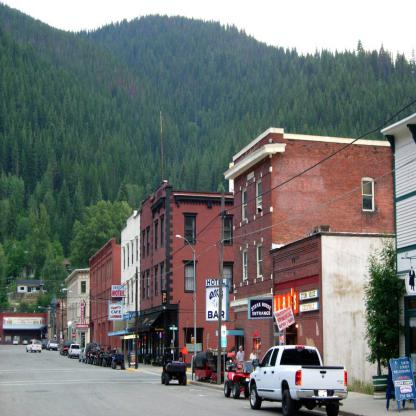Car: (248, 348, 334, 405), (26, 339, 42, 352), (60, 342, 72, 356), (68, 344, 80, 357), (47, 340, 58, 352), (79, 346, 87, 362), (42, 340, 46, 350)
Truck: (241, 349, 353, 412)
